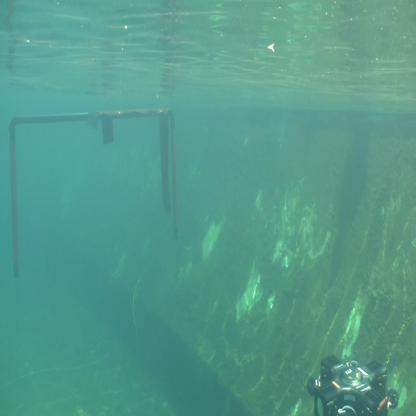gate: (7, 103, 184, 285)
